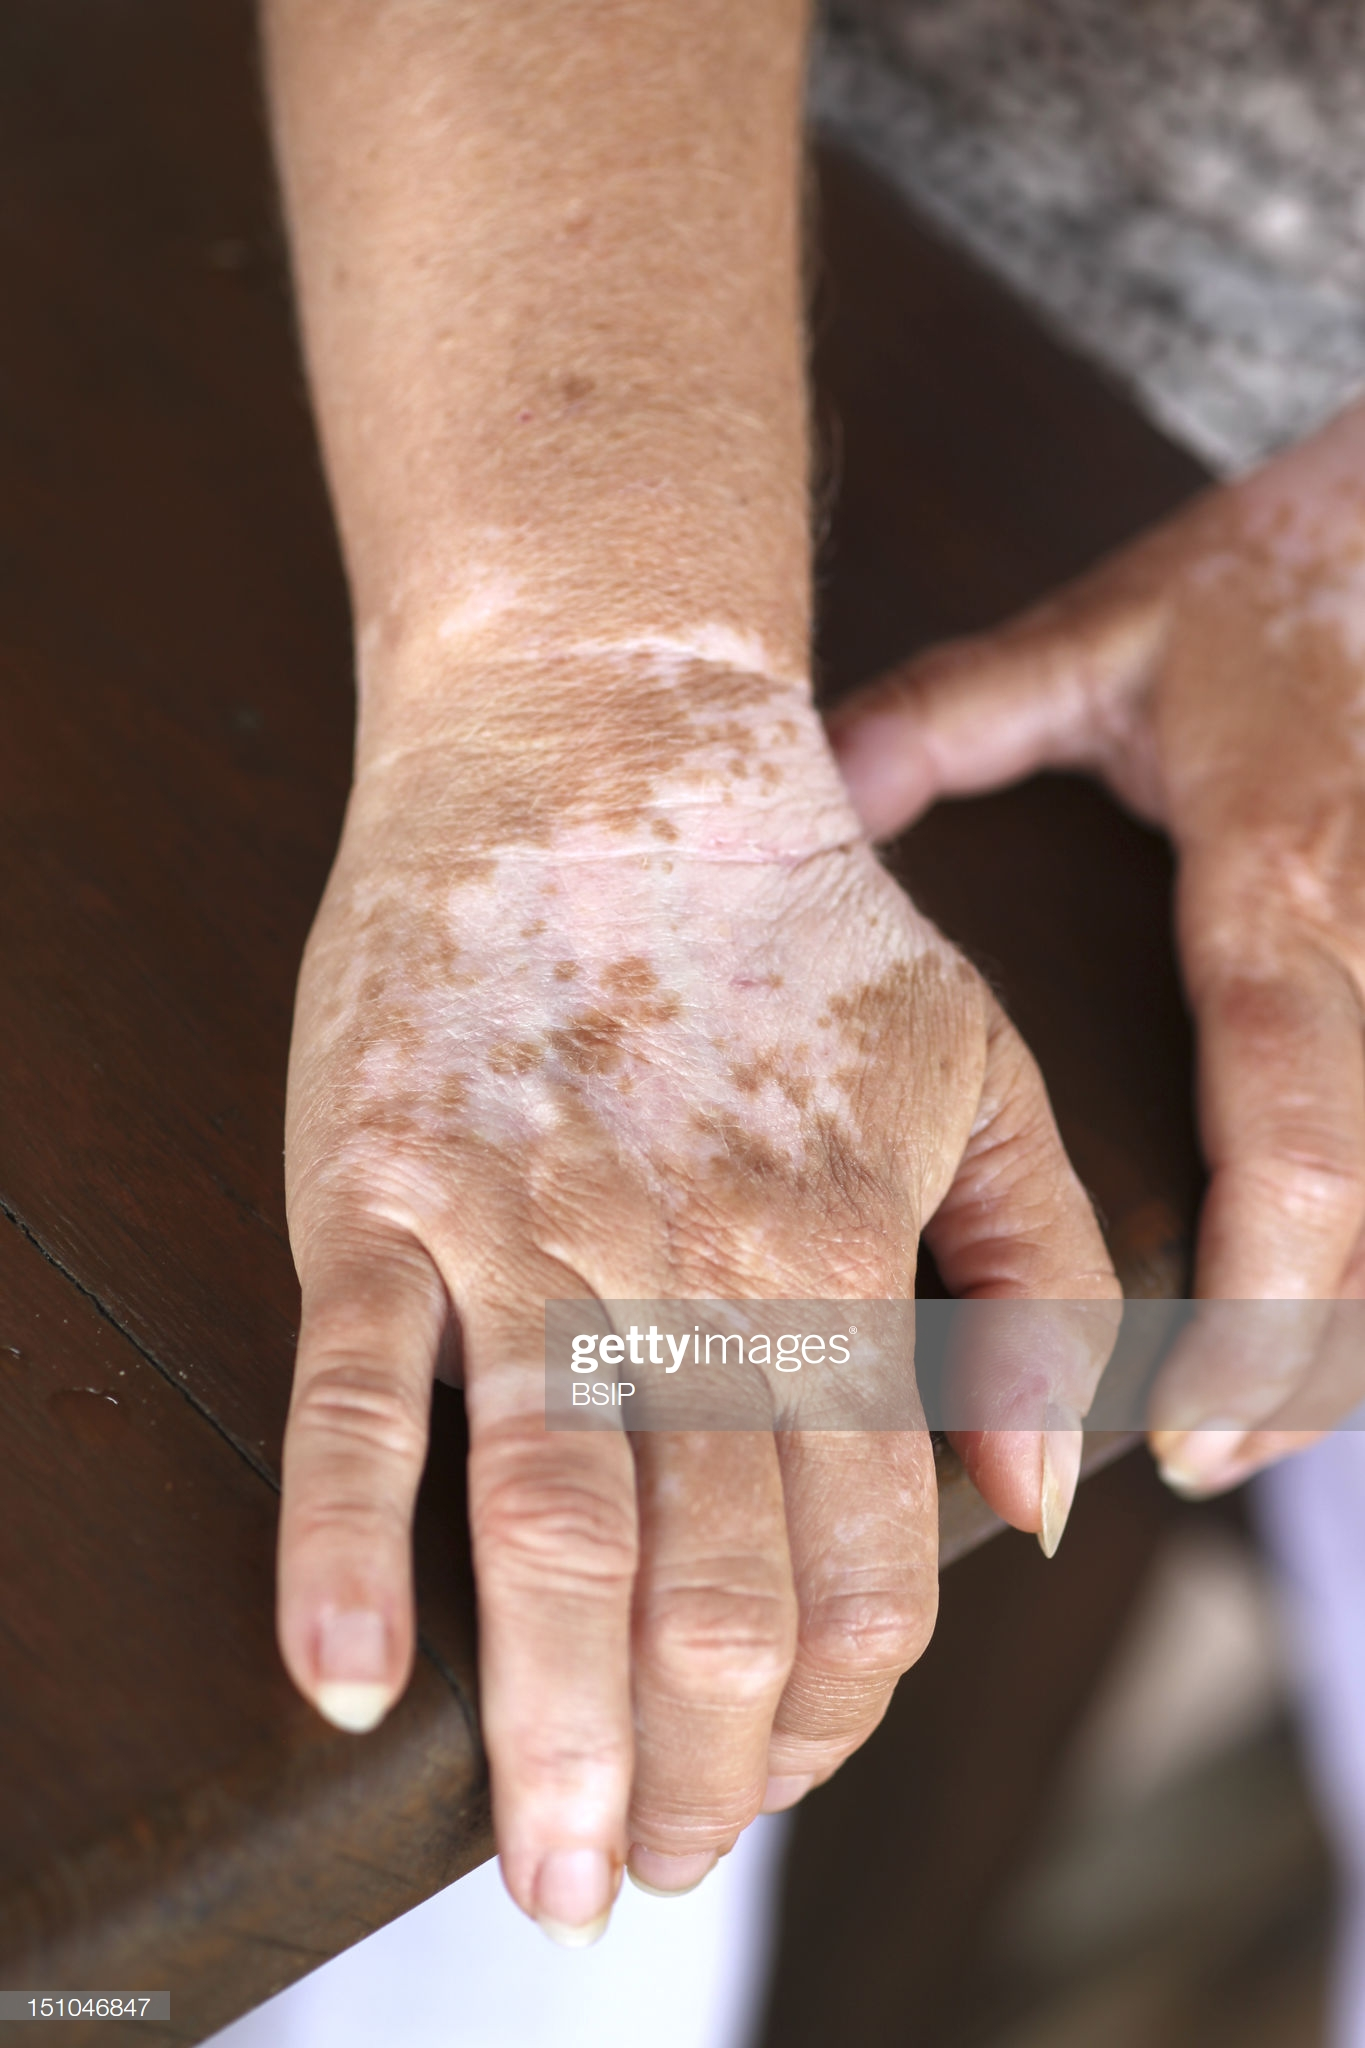vitiligo: (373, 620, 963, 1319)
